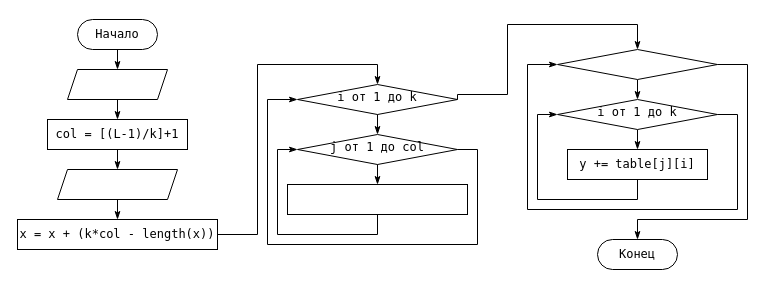
This 773x287 diagram has some shape labels left out. Here are the shapes that lost their labels. From the top down, the centre of each, then its label:
At pixel 117 84: "текст (x) ключ (k)".
At pixel 637 64: "i от 1 до col".
At pixel 117 184: "table[k][col]".
At pixel 377 199: "table[i][j] = x[i*col+j]".
